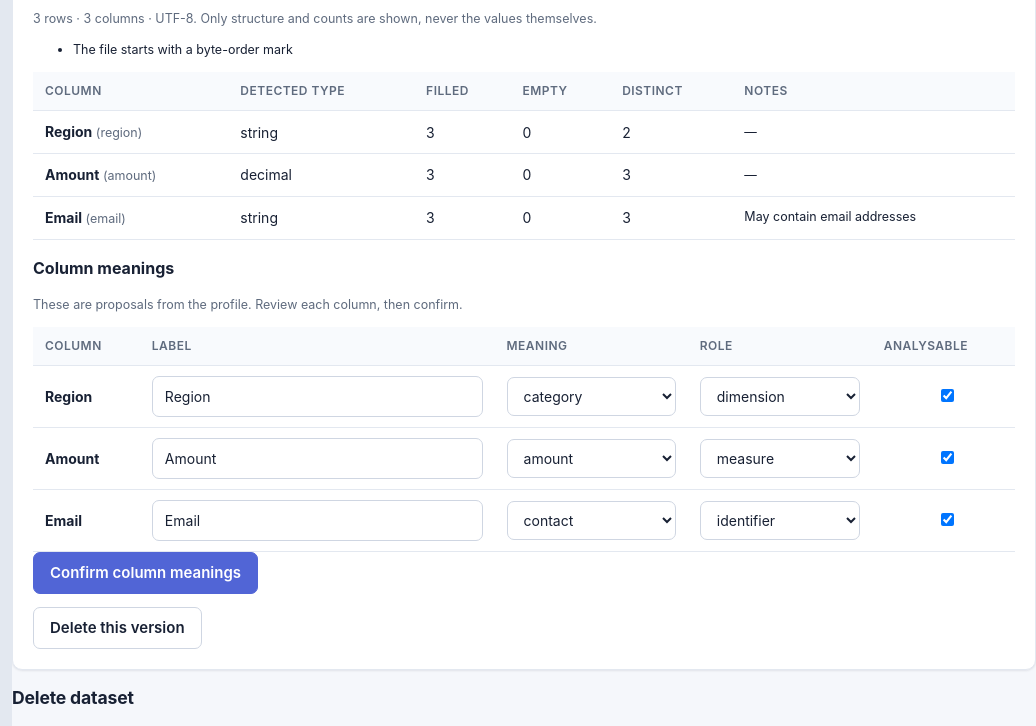
Test: Version panel › locks analysis of a contact column unless it is an identifier
This screenshot has width=1036, height=726.
(page scrolled)
Step 1. Select "attribute" in the 6th dropdown named "Role of Email" → (780, 520), box left=700, top=501, right=860, bottom=540
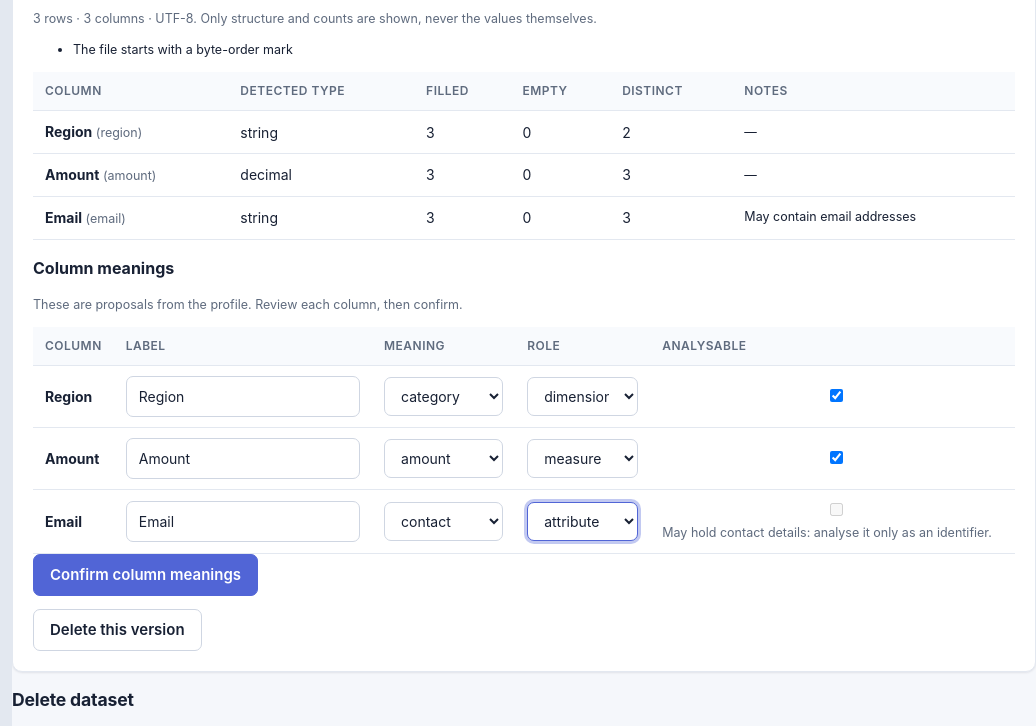
Result: the 3rd checkbox named "Allow analysis of Email" is disabled at left=666, top=503, right=1007, bottom=516
Result: the 3rd checkbox named "Allow analysis of Email" is not checked at left=666, top=503, right=1007, bottom=516
Result: the text "May hold contact details: analyse it only as an identifier." is shown at left=662, top=525, right=992, bottom=540
